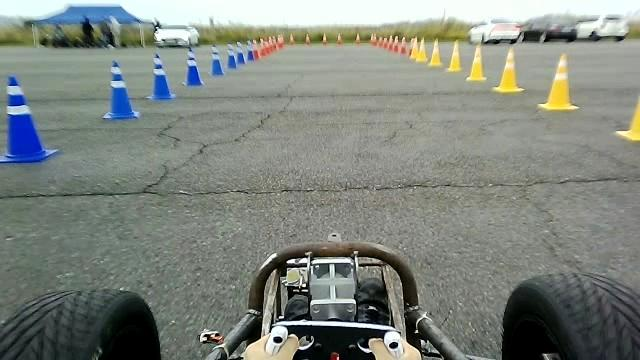blue cone: (102, 60, 139, 119), (145, 52, 175, 100), (182, 46, 204, 86), (208, 44, 224, 76), (235, 41, 246, 64), (226, 43, 236, 68)
red cone: (408, 36, 418, 59), (399, 36, 407, 54), (386, 34, 393, 50), (393, 35, 399, 52)
yellow cone: (537, 53, 579, 111), (492, 45, 524, 93), (465, 42, 486, 81), (447, 38, 461, 72), (428, 37, 442, 66), (415, 36, 427, 62)
